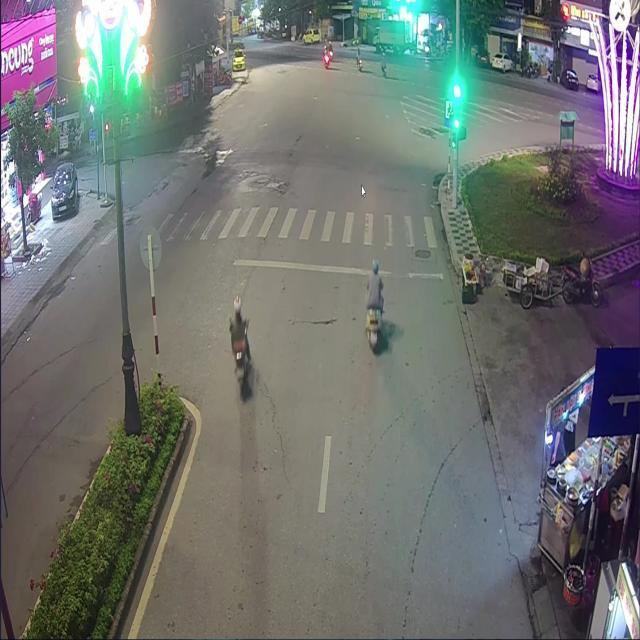green_light: (452, 97, 459, 127)
motobike: (234, 353, 251, 400), (365, 307, 380, 351)
stop_line: (231, 258, 442, 280)
